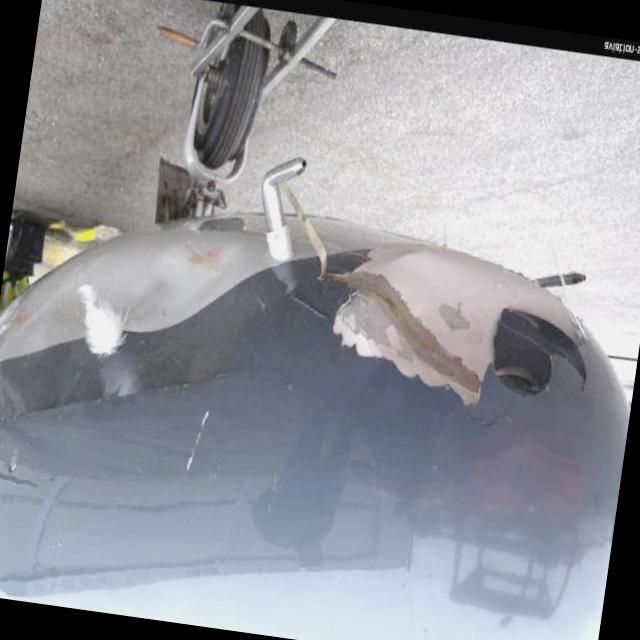crack: (460, 396, 520, 436)
dent: (362, 252, 464, 349), (127, 240, 193, 330), (188, 244, 247, 318)
